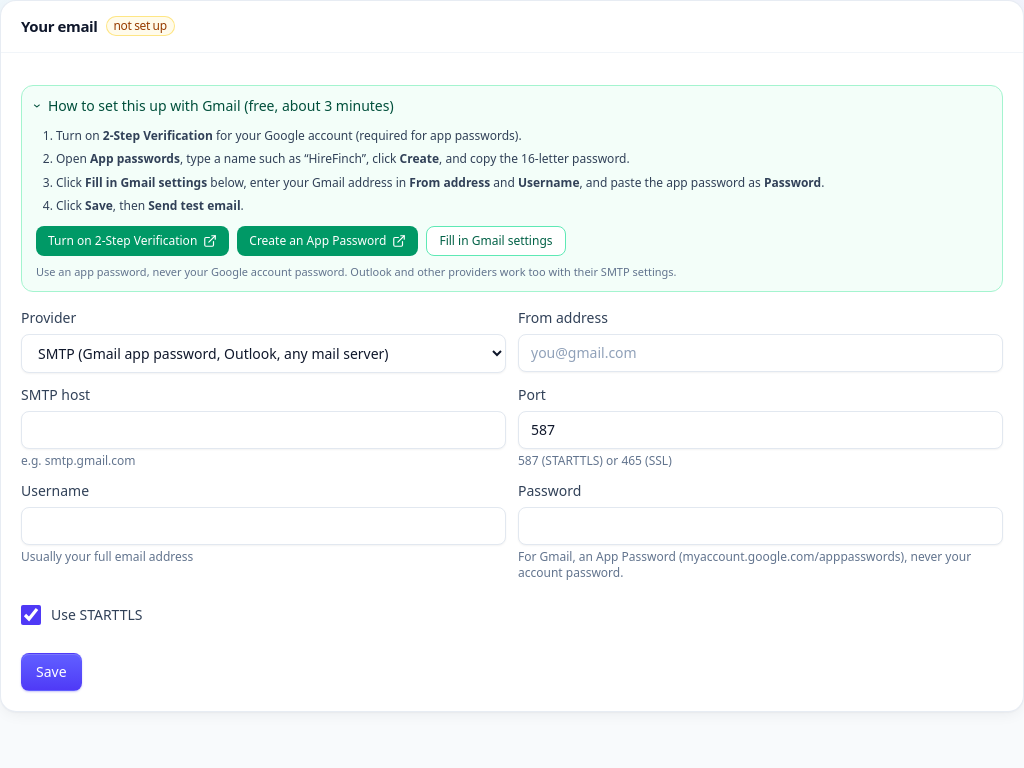
Scenario: integration setup guides › guides Gmail setup and fills the SMTP settings
Click the button "Fill in Gmail settings".
click(496, 240)  # box [426,226,566,256]
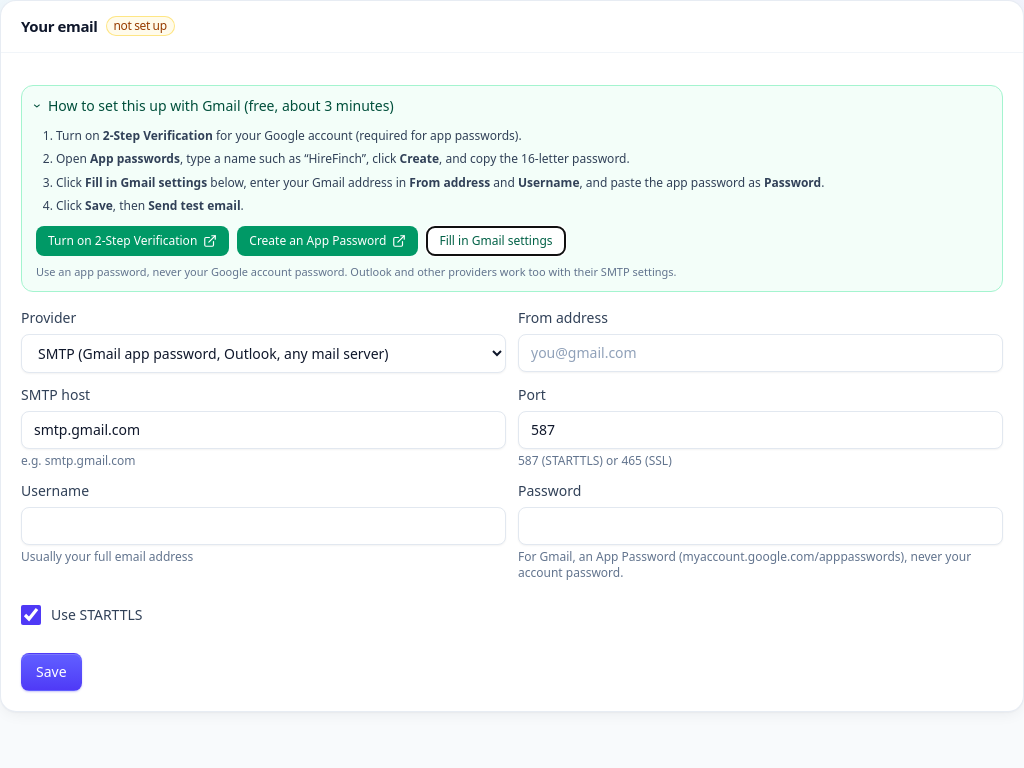
Expected: the number field showing "587" is shown, [518,411,1003,449]
Expected: the field showing "smtp.gmail.com" is shown, [21,411,506,449]
